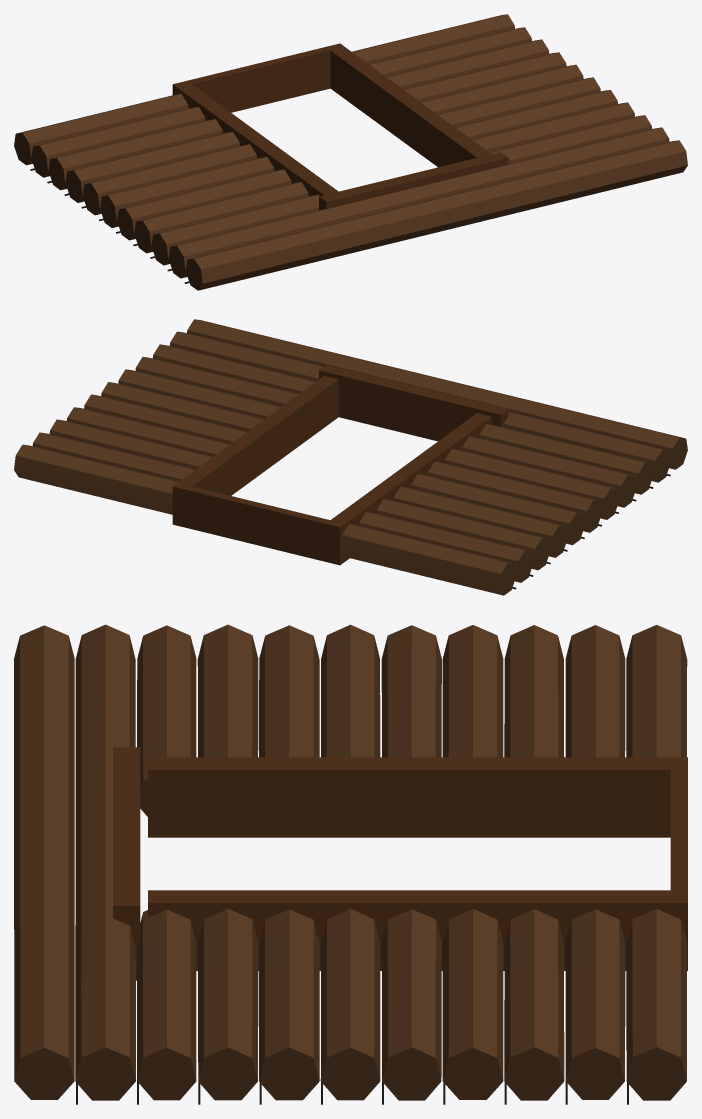
The model's file is SM_Izba_WallDoor_1348_LOD1.obj.
3 views of the same model, one above another, from view 1: azimuth 30°, elevation 25°; view 2: azimuth 150°, elevation 25°; view 3: azimuth 270°, elevation 25° (orthographic). The views are drawn at different scales.
Visible parts, largest first — view 1: log_course_10, door_jamb, log_course_9, log_course_0, log_course_7, log_course_3, log_course_4, log_course_2, log_course_5, log_course_6, log_course_1, stone_wood_threshold (+3 smaller); view 2: door_jamb, log_course_0, log_course_10, lintel, stone_wood_threshold, log_course_2, log_course_7, log_course_6, log_course_3, log_course_5, log_course_4, log_course_8 (+3 smaller); view 3: door_jamb, sawn_end, log_course_10, log_course_9, log_course_3, log_course_0, log_course_7, log_course_6, log_course_8, log_course_1, log_course_4, log_course_2 (+4 smaller).
Part boxes in pixels (left/top/right/bottom): log_course_10: left=189, top=140, right=687, bottom=290; door_jamb: left=172, top=43, right=491, bottom=196; log_course_9: left=171, top=127, right=669, bottom=278; log_course_0: left=16, top=14, right=514, bottom=165; log_course_7: left=138, top=102, right=634, bottom=253; log_course_3: left=68, top=52, right=566, bottom=202; log_course_4: left=86, top=64, right=583, bottom=215; log_course_2: left=52, top=39, right=549, bottom=189; log_course_5: left=105, top=77, right=600, bottom=227; log_course_6: left=121, top=90, right=617, bottom=240; log_course_1: left=34, top=27, right=531, bottom=177; stone_wood_threshold: left=180, top=47, right=334, bottom=112; door_jamb: left=172, top=376, right=491, bottom=565; log_course_0: left=14, top=444, right=512, bottom=595; log_course_10: left=187, top=319, right=684, bottom=469; lintel: left=319, top=365, right=508, bottom=441; stone_wood_threshold: left=180, top=486, right=335, bottom=561; log_course_2: left=49, top=419, right=547, bottom=570; log_course_7: left=135, top=357, right=632, bottom=507; log_course_6: left=118, top=369, right=615, bottom=519; log_course_3: left=67, top=407, right=565, bottom=557; log_course_5: left=101, top=382, right=598, bottom=532; log_course_4: left=84, top=394, right=581, bottom=544; log_course_8: left=152, top=344, right=650, bottom=494; door_jamb: left=148, top=757, right=687, bottom=970; sawn_end: left=14, top=779, right=686, bottom=1100; log_course_10: left=14, top=625, right=74, bottom=1080; log_course_9: left=75, top=624, right=135, bottom=1080; log_course_3: left=442, top=625, right=503, bottom=1080; log_course_0: left=626, top=625, right=687, bottom=1080; log_course_7: left=197, top=624, right=258, bottom=1080; log_course_6: left=259, top=625, right=319, bottom=1080; log_course_8: left=137, top=625, right=196, bottom=1080; log_course_1: left=565, top=625, right=625, bottom=1080; log_course_4: left=381, top=625, right=441, bottom=1080; log_course_2: left=504, top=625, right=564, bottom=1080.
Size of the model in its own units: 4 by 0.33 by 2.7.
